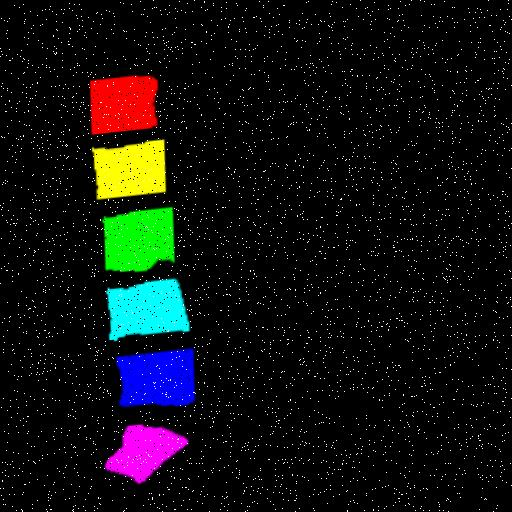L1: (91, 76, 159, 135)
L2: (96, 140, 169, 200)
L3: (107, 207, 179, 273)
L4: (112, 280, 194, 340)
L5: (122, 349, 201, 407)
S1: (113, 426, 195, 483)
